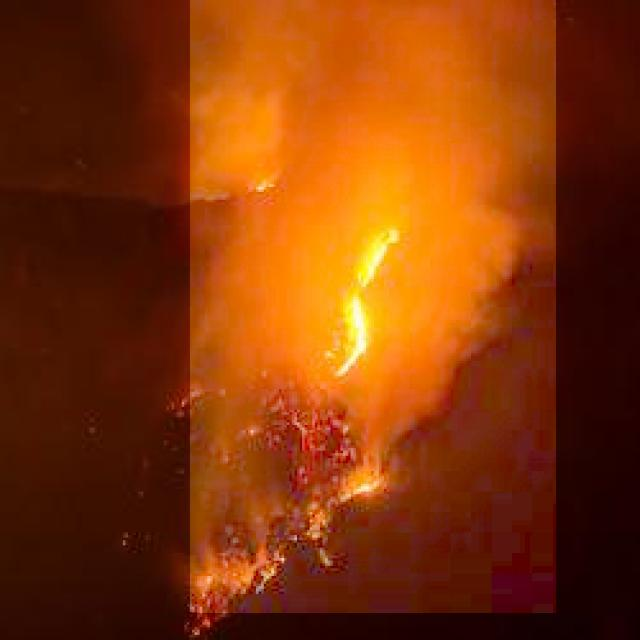Fire: (330, 219, 404, 391)
Smoke: (190, 0, 556, 613)
